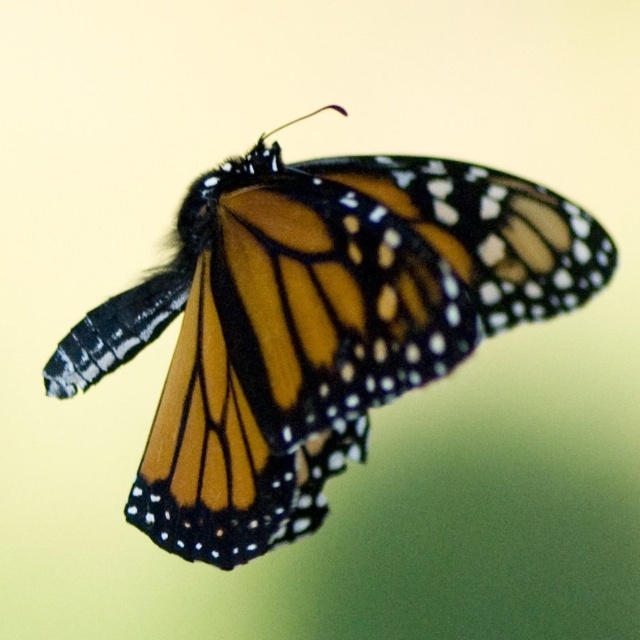Moths and butterflies: (38, 100, 623, 572)
